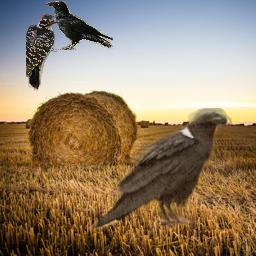Crow: (88, 108, 232, 235), (46, 1, 113, 50)
Woodpecker: (26, 13, 59, 91)
